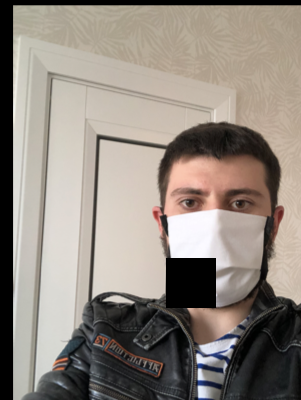with_mask: (160, 178, 272, 309)
